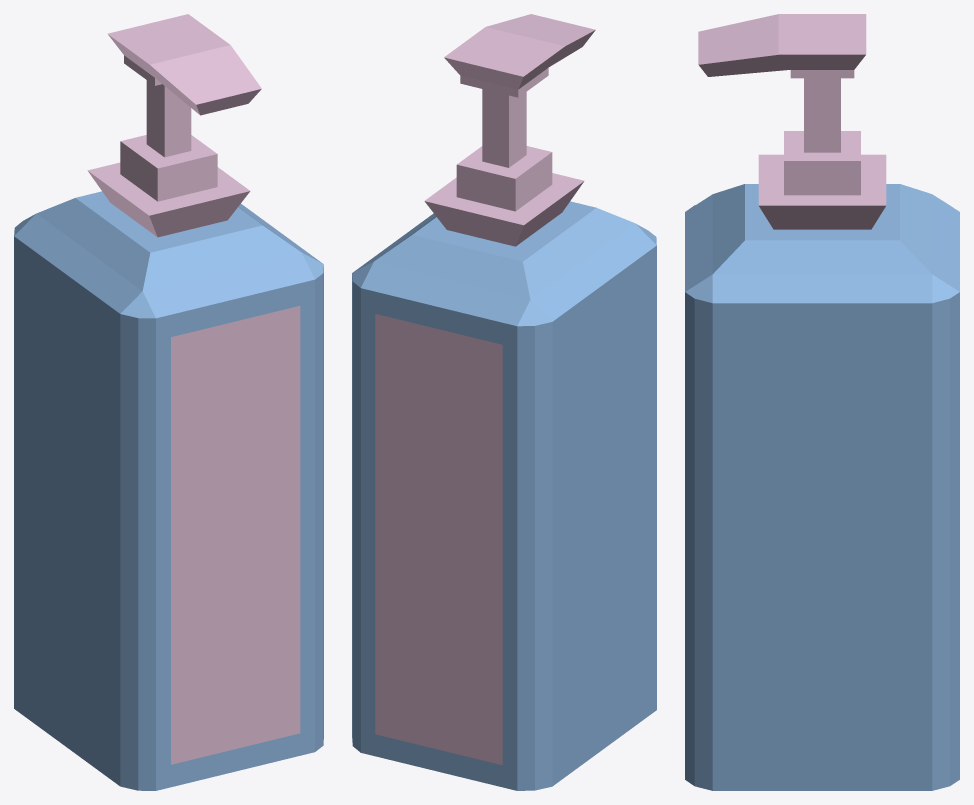
File: rand bottle1.fbx
The picture shows the model from 3 angles, left to right: view 1: azimuth 30°, elevation 25°; view 2: azimuth 150°, elevation 25°; view 3: azimuth 270°, elevation 25°; orthographic projection. The views are drawn at different scales.
Visible parts, largest first — view 1: soap liq.001; view 2: soap liq.001; view 3: soap liq.001.
Part boxes in pixels (x1=…): soap liq.001: x1=14, y1=14, x2=323, y2=790; soap liq.001: x1=352, y1=14, x2=656, y2=790; soap liq.001: x1=685, y1=14, x2=959, y2=790.
Bounding box in the file's own units: 50.93 × 163 × 57.68.
